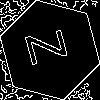Z: (25, 25, 77, 66)
